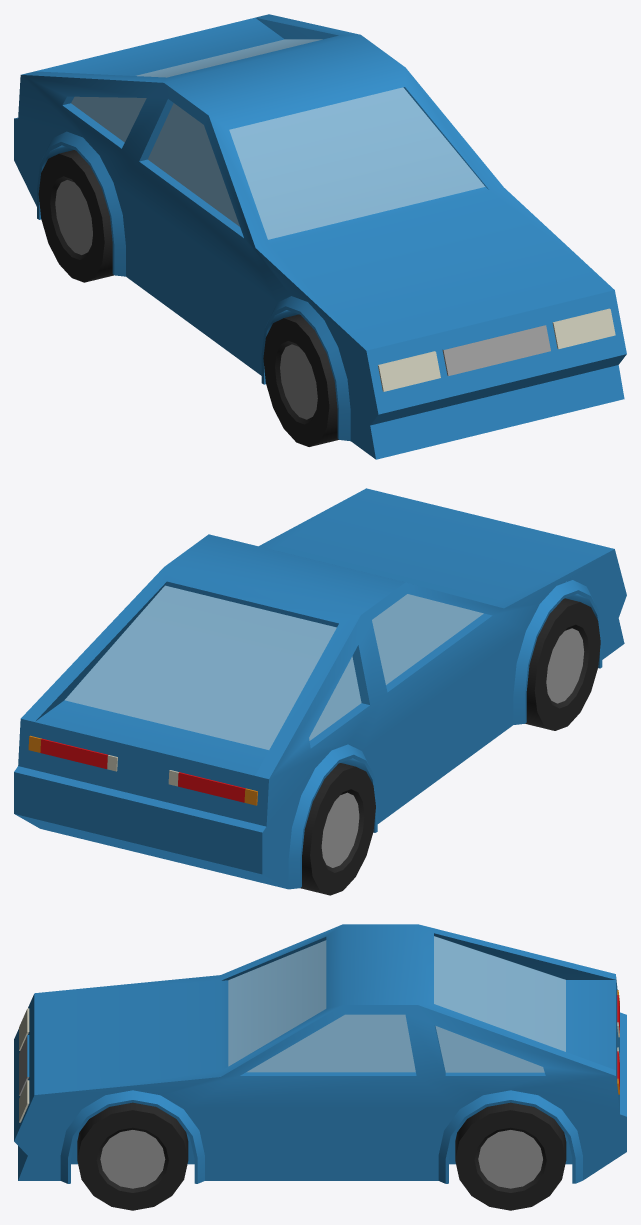
File: car-coupe-blue.gltf
3 renders of one model, top to bottom at view 1: azimuth 30°, elevation 25°; view 2: azimuth 150°, elevation 25°; view 3: azimuth 270°, elevation 25°, orthographic. The views are drawn at different scales.
Visible parts, largest first — view 1: car-coupe-blue_Cube.580; view 2: car-coupe-blue_Cube.580; view 3: car-coupe-blue_Cube.580.
Boxes of the visible parts, x1=… form: car-coupe-blue_Cube.580: x1=14, y1=14, x2=626, y2=459; car-coupe-blue_Cube.580: x1=14, y1=488, x2=626, y2=895; car-coupe-blue_Cube.580: x1=14, y1=924, x2=626, y2=1210.
Size of the model in its own units: 1.71 by 1.36 by 3.97.
